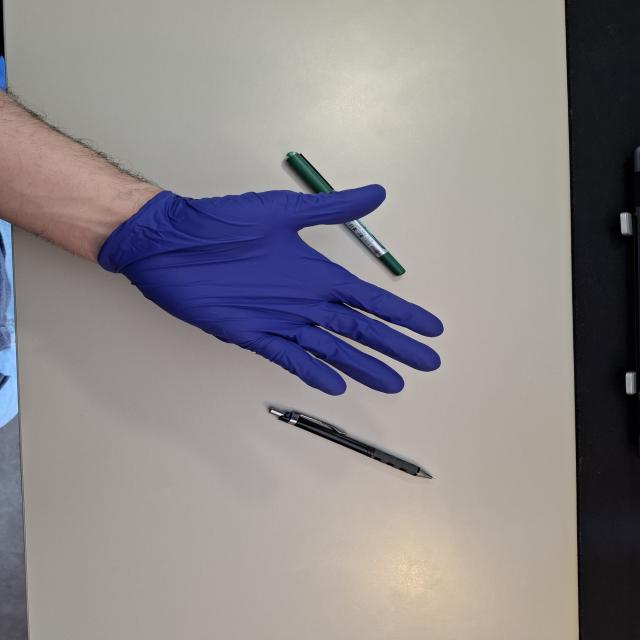glove_on: (99, 181, 447, 399)
